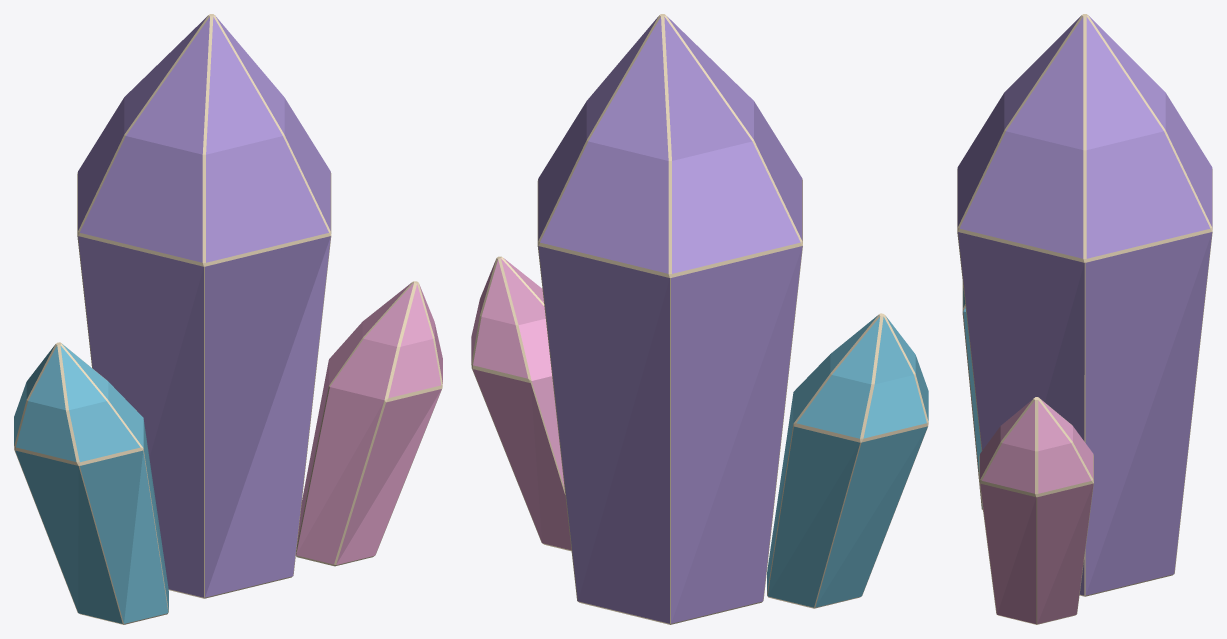
The picture shows the model from 3 angles, left to right: view 1: azimuth 30°, elevation 25°; view 2: azimuth 150°, elevation 25°; view 3: azimuth 270°, elevation 25°; orthographic projection. The views are drawn at different scales.
Parts seen in each view (by area): view 1: Crystal_Crown_A_Geometry; view 2: Crystal_Crown_A_Geometry; view 3: Crystal_Crown_A_Geometry.
Boxes of the visible parts, left/top/right/bottom form: Crystal_Crown_A_Geometry: left=14, top=14, right=442, bottom=624; Crystal_Crown_A_Geometry: left=471, top=14, right=928, bottom=624; Crystal_Crown_A_Geometry: left=957, top=14, right=1212, bottom=624.
Size of the model in its own units: 1.68 by 2 by 0.8539.
